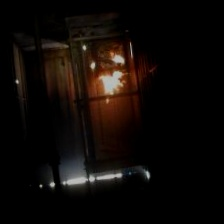fire: (99, 67, 130, 106)
